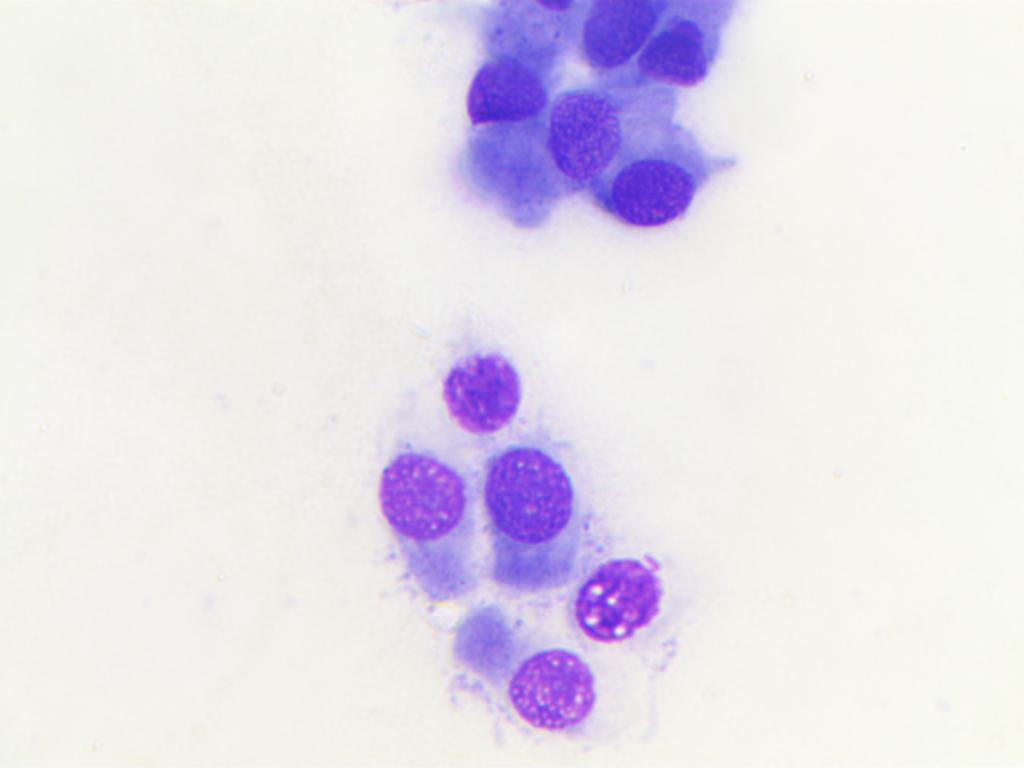epithelial: (366, 430, 483, 595), (469, 432, 575, 598), (426, 310, 528, 439), (562, 549, 672, 647), (547, 68, 630, 183), (500, 641, 594, 737), (607, 151, 704, 242), (453, 44, 550, 135), (638, 14, 725, 92)
